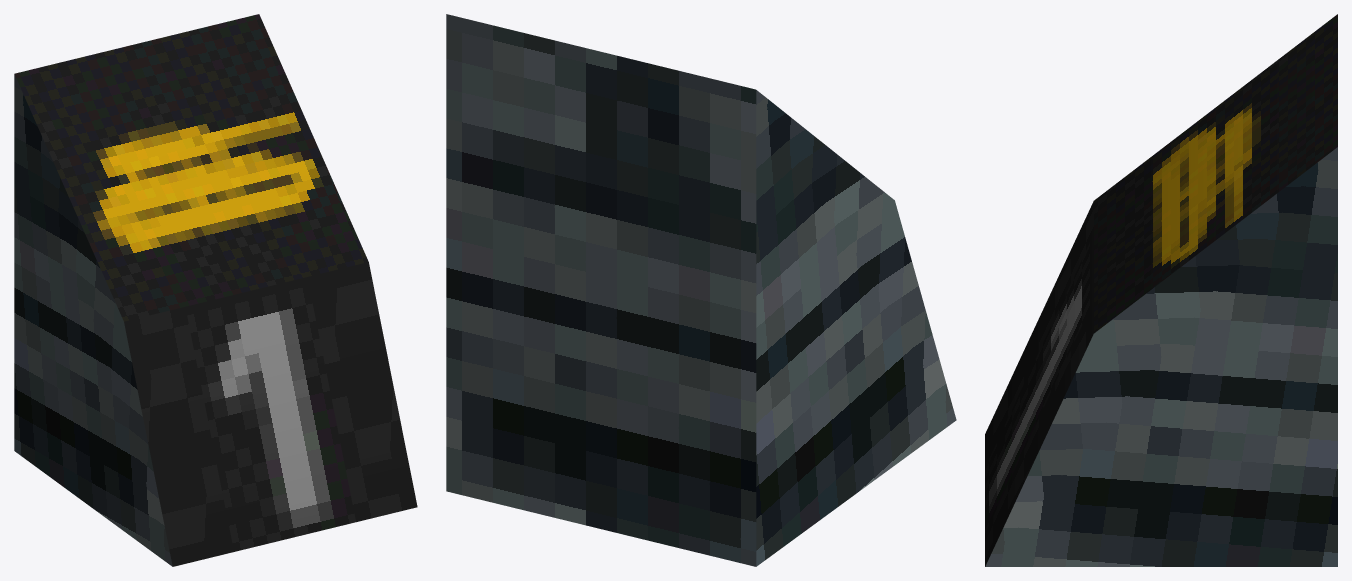
3 renders of one model, left to right at view 1: azimuth 30°, elevation 25°; view 2: azimuth 150°, elevation 25°; view 3: azimuth 270°, elevation 25°, orthographic. The views are drawn at different scales.
Visible parts, largest first — view 1: Mp_obj_040; view 2: Mp_obj_040; view 3: Mp_obj_040.
Part boxes in pixels (x1=…): Mp_obj_040: x1=14, y1=14, x2=417, y2=566; Mp_obj_040: x1=446, y1=14, x2=956, y2=566; Mp_obj_040: x1=985, y1=14, x2=1337, y2=566.
Size of the model in its own units: 0.5996 by 0.8828 by 0.6719.
Materials: 1 (1 with a texture image).
